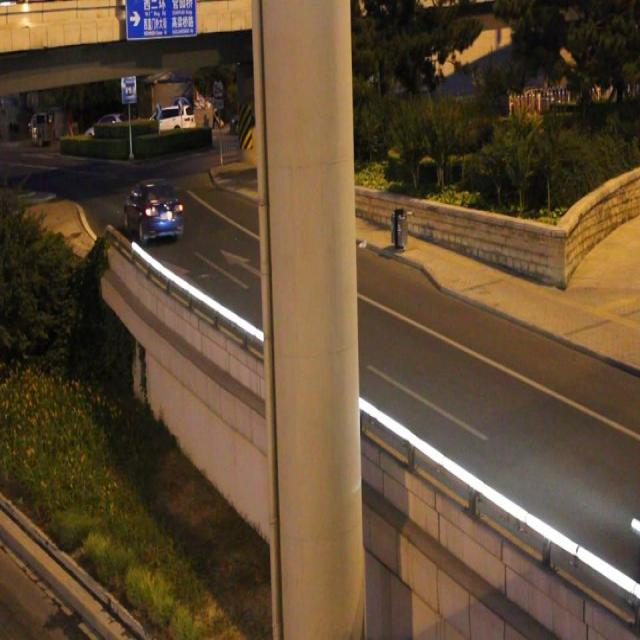car: (123, 177, 184, 241), (629, 491, 640, 560)
